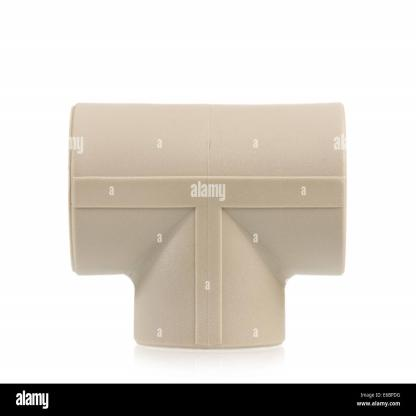PVC: (69, 103, 346, 352)
